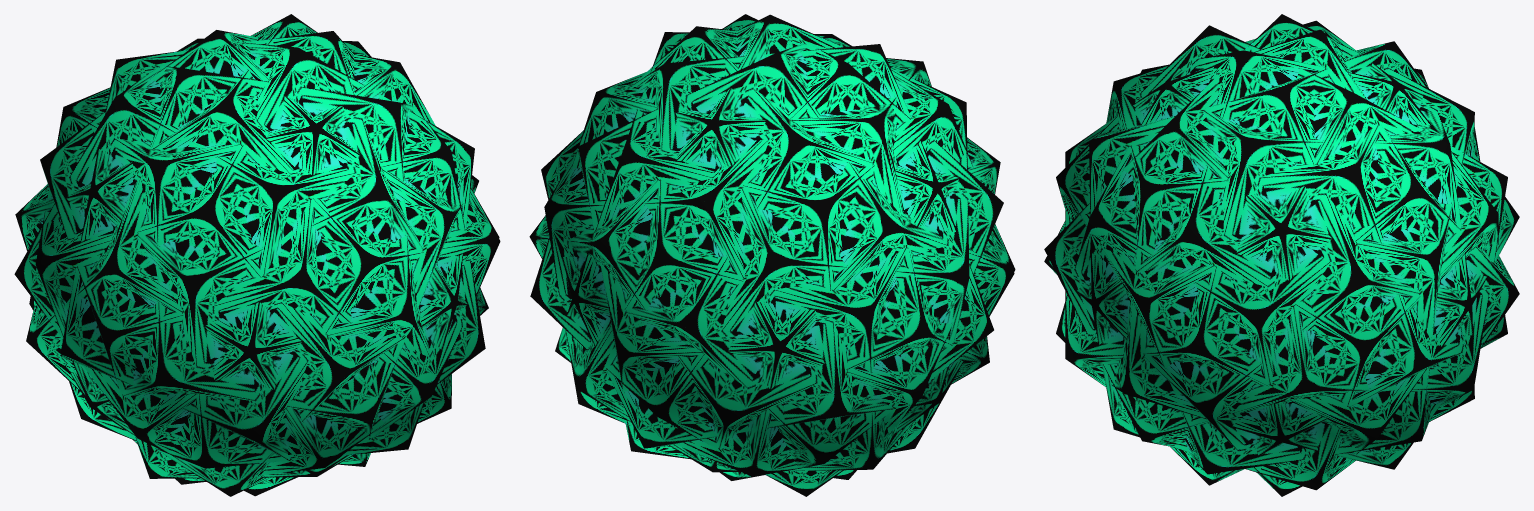
The model's file is 21GreatPentagonalHexecontahedron.gltf.
3 views of the same model, side by side, from view 1: azimuth 30°, elevation 25°; view 2: azimuth 150°, elevation 25°; view 3: azimuth 270°, elevation 25° (orthographic).
Parts seen in each view (by area): view 1: 7GreatPentagonalHexecontahedron; view 2: 7GreatPentagonalHexecontahedron; view 3: 7GreatPentagonalHexecontahedron.
Part boxes in pixels (box(x1,y1,x2,y2)): 7GreatPentagonalHexecontahedron: box(14, 14, 500, 496); 7GreatPentagonalHexecontahedron: box(529, 14, 1015, 496); 7GreatPentagonalHexecontahedron: box(1044, 14, 1519, 496).
Size of the model in its own units: 1.42 by 1.42 by 1.42.
Materials: 1 (1 with a texture image).
